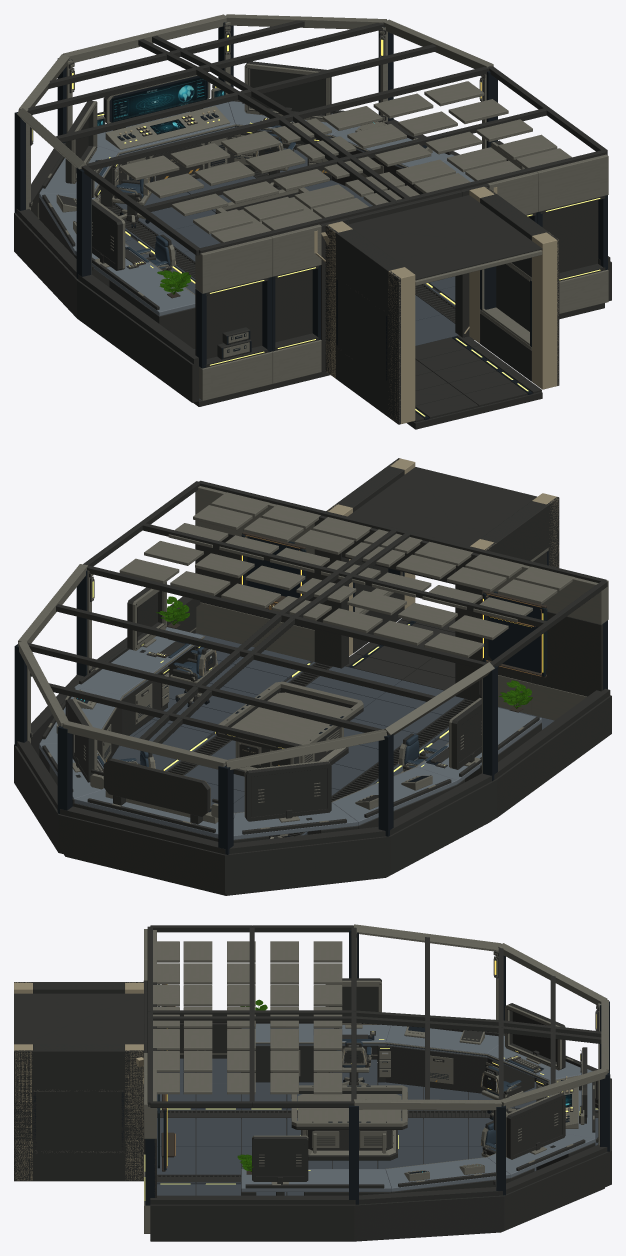
File: cruz-del-sur-refined-bridge.glb
The picture shows the model from 3 angles, top to bottom: view 1: azimuth 30°, elevation 25°; view 2: azimuth 150°, elevation 25°; view 3: azimuth 270°, elevation 25°; orthographic projection. The views are drawn at different scales.
Visible parts, largest first — view 1: REFINED_bridge_static_BRIDGE V15 Graphite.001, REFINED_bridge_static_BRIDGE V15 Metal.001, REFINED_bridge_static_BRIDGE V15 Gasket.001, REFINED_bridge_static_BRIDGE V15 Ivory.001, REFINED_bridge_static_CDS CONSOLE_Brushed graphite desktop, REFINED_bridge_static_CDS DETAIL_Graphite deck - restrained , REFINED_bridge_static_BRIDGE Central navigation.001, REFINED_bridge_communications_BRIDGE V15 Graphite.001, REFINED_bridge_arcade_BRIDGE V15 Graphite.001, REFINED_bridge_computer_BRIDGE V15 Graphite.001, REFINED_bridge_static_BRIDGE V15 Amber.001, REFINED_bridge_static_CDS TAILORED_Blue charcoal performance (+3 smaller); view 2: REFINED_bridge_static_BRIDGE V15 Graphite.001, REFINED_bridge_static_BRIDGE V15 Metal.001, REFINED_bridge_static_CDS DETAIL_Graphite deck - restrained , REFINED_bridge_static_CDS CONSOLE_Brushed graphite desktop, REFINED_bridge_static_BRIDGE V15 Gasket.001, REFINED_bridge_tactical_BRIDGE V15 Metal.001, REFINED_bridge_computer_BRIDGE V15 Graphite.001, REFINED_bridge_static_STATION_Deep gasket.001, REFINED_bridge_arcade_BRIDGE V15 Graphite.001, REFINED_bridge_tactical_BRIDGE V15 Graphite.001, REFINED_bridge_personal_BRIDGE V15 Graphite.001, REFINED_bridge_static_BRIDGE V15 Ivory.001 (+5 smaller); view 3: REFINED_bridge_static_BRIDGE V15 Graphite.001, REFINED_bridge_static_BRIDGE V15 Metal.001, REFINED_bridge_static_CDS DETAIL_Graphite deck - restrained , REFINED_bridge_static_CDS CONSOLE_Brushed graphite desktop, REFINED_bridge_static_BRIDGE V15 Gasket.001, REFINED_bridge_tactical_BRIDGE V15 Metal.001, REFINED_bridge_static_BRIDGE V15 Ivory.001, REFINED_bridge_personal_BRIDGE V15 Graphite.001, REFINED_bridge_communications_BRIDGE V15 Graphite.001, REFINED_bridge_tactical_BRIDGE V15 Graphite.001, REFINED_bridge_computer_BRIDGE V15 Graphite.001, REFINED_bridge_arcade_BRIDGE V15 Graphite.001 (+5 smaller).
Part boxes in pixels (x1,y1,x2,y2): REFINED_bridge_static_BRIDGE V15 Graphite.001: [14, 20, 611, 429]; REFINED_bridge_static_BRIDGE V15 Metal.001: [17, 14, 608, 400]; REFINED_bridge_static_BRIDGE V15 Gasket.001: [14, 22, 607, 420]; REFINED_bridge_static_BRIDGE V15 Ivory.001: [98, 110, 558, 423]; REFINED_bridge_static_CDS CONSOLE_Brushed graphite desktop: [39, 101, 474, 316]; REFINED_bridge_static_CDS DETAIL_Graphite deck - restrained : [115, 148, 458, 400]; REFINED_bridge_static_BRIDGE Central navigation.001: [97, 77, 225, 134]; REFINED_bridge_communications_BRIDGE V15 Graphite.001: [232, 61, 344, 137]; REFINED_bridge_arcade_BRIDGE V15 Graphite.001: [92, 199, 159, 310]; REFINED_bridge_computer_BRIDGE V15 Graphite.001: [42, 100, 120, 188]; REFINED_bridge_static_BRIDGE V15 Amber.001: [32, 35, 600, 416]; REFINED_bridge_static_CDS TAILORED_Blue charcoal performance: [99, 125, 295, 268]; REFINED_bridge_static_BRIDGE V15 Graphite.001: [14, 458, 611, 895]; REFINED_bridge_static_BRIDGE V15 Metal.001: [18, 486, 608, 838]; REFINED_bridge_static_CDS DETAIL_Graphite deck - restrained : [112, 633, 554, 835]; REFINED_bridge_static_CDS CONSOLE_Brushed graphite desktop: [39, 627, 541, 839]; REFINED_bridge_static_BRIDGE V15 Gasket.001: [14, 551, 607, 854]; REFINED_bridge_tactical_BRIDGE V15 Metal.001: [217, 681, 363, 770]; REFINED_bridge_computer_BRIDGE V15 Graphite.001: [242, 761, 346, 834]; REFINED_bridge_static_STATION_Deep gasket.001: [241, 534, 547, 676]; REFINED_bridge_arcade_BRIDGE V15 Graphite.001: [435, 699, 539, 776]; REFINED_bridge_tactical_BRIDGE V15 Graphite.001: [215, 687, 363, 776]; REFINED_bridge_personal_BRIDGE V15 Graphite.001: [79, 583, 176, 722]; REFINED_bridge_static_BRIDGE V15 Ivory.001: [114, 458, 559, 808]; REFINED_bridge_static_BRIDGE V15 Graphite.001: [14, 925, 611, 1241]; REFINED_bridge_static_BRIDGE V15 Metal.001: [34, 924, 608, 1233]; REFINED_bridge_static_CDS DETAIL_Graphite deck - restrained : [157, 1058, 598, 1195]; REFINED_bridge_static_CDS CONSOLE_Brushed graphite desktop: [241, 1023, 595, 1191]; REFINED_bridge_static_BRIDGE V15 Gasket.001: [33, 930, 609, 1205]; REFINED_bridge_tactical_BRIDGE V15 Metal.001: [291, 1085, 407, 1155]; REFINED_bridge_static_BRIDGE V15 Ivory.001: [14, 981, 572, 1180]; REFINED_bridge_personal_BRIDGE V15 Graphite.001: [245, 1136, 384, 1188]; REFINED_bridge_communications_BRIDGE V15 Graphite.001: [507, 1093, 585, 1170]; REFINED_bridge_tactical_BRIDGE V15 Graphite.001: [291, 1086, 407, 1160]; REFINED_bridge_computer_BRIDGE V15 Graphite.001: [485, 1003, 580, 1073]; REFINED_bridge_arcade_BRIDGE V15 Graphite.001: [256, 978, 381, 1072].
Bounding box in the file's own units: 9.92 × 3.62 × 13.81.
22 materials, 6 textured.
